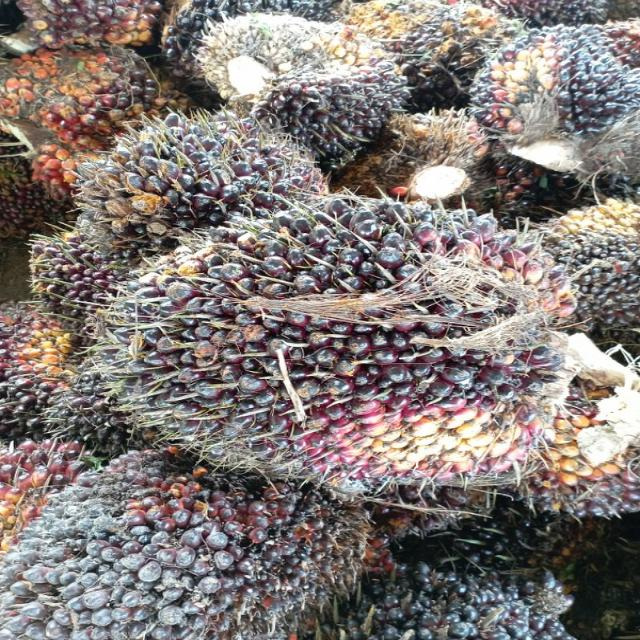fraksi 00: (91, 198, 590, 494), (75, 111, 346, 242), (198, 9, 408, 158), (460, 20, 631, 152)
fraksi 1: (0, 455, 358, 640)
